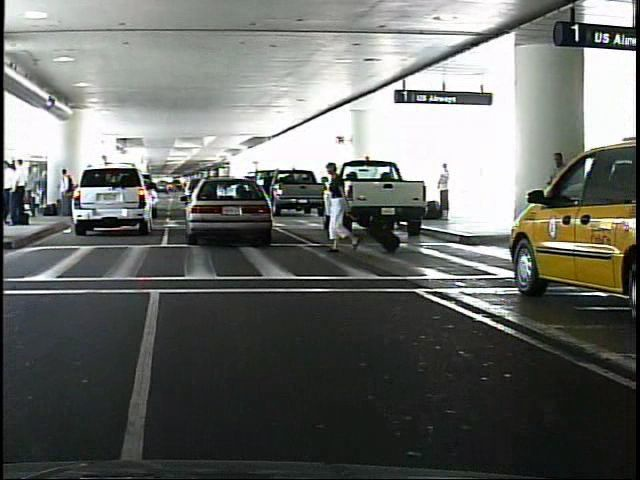person: (541, 145, 575, 260), (324, 160, 365, 255), (432, 159, 457, 221), (16, 158, 32, 227), (58, 165, 74, 221), (3, 160, 16, 222)
